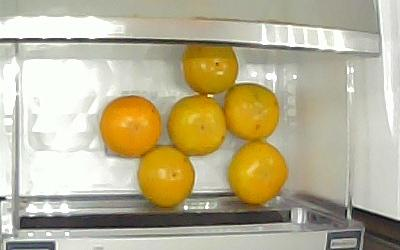persimmon: (100, 95, 163, 161), (228, 141, 290, 206), (137, 145, 196, 208), (168, 95, 226, 158), (227, 83, 281, 143), (181, 43, 240, 95)
